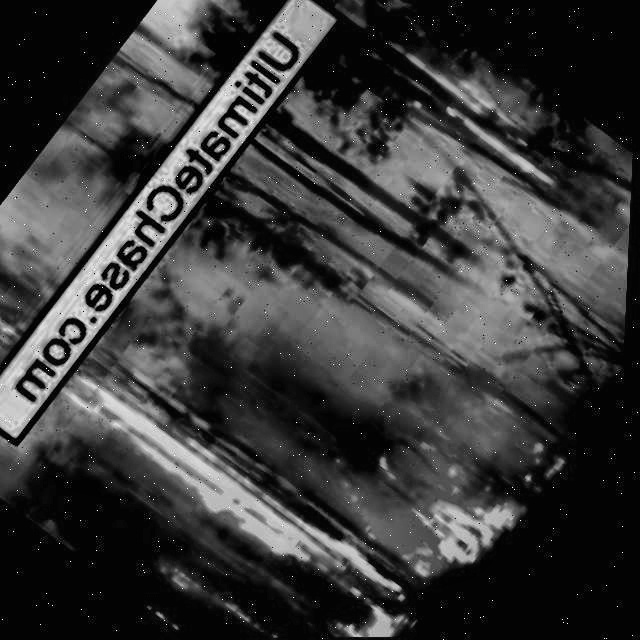Fire: (46, 354, 364, 605), (262, 443, 526, 638), (382, 33, 527, 156), (145, 541, 275, 639), (140, 594, 202, 639)
Smoke: (90, 0, 640, 623), (0, 0, 254, 439)
